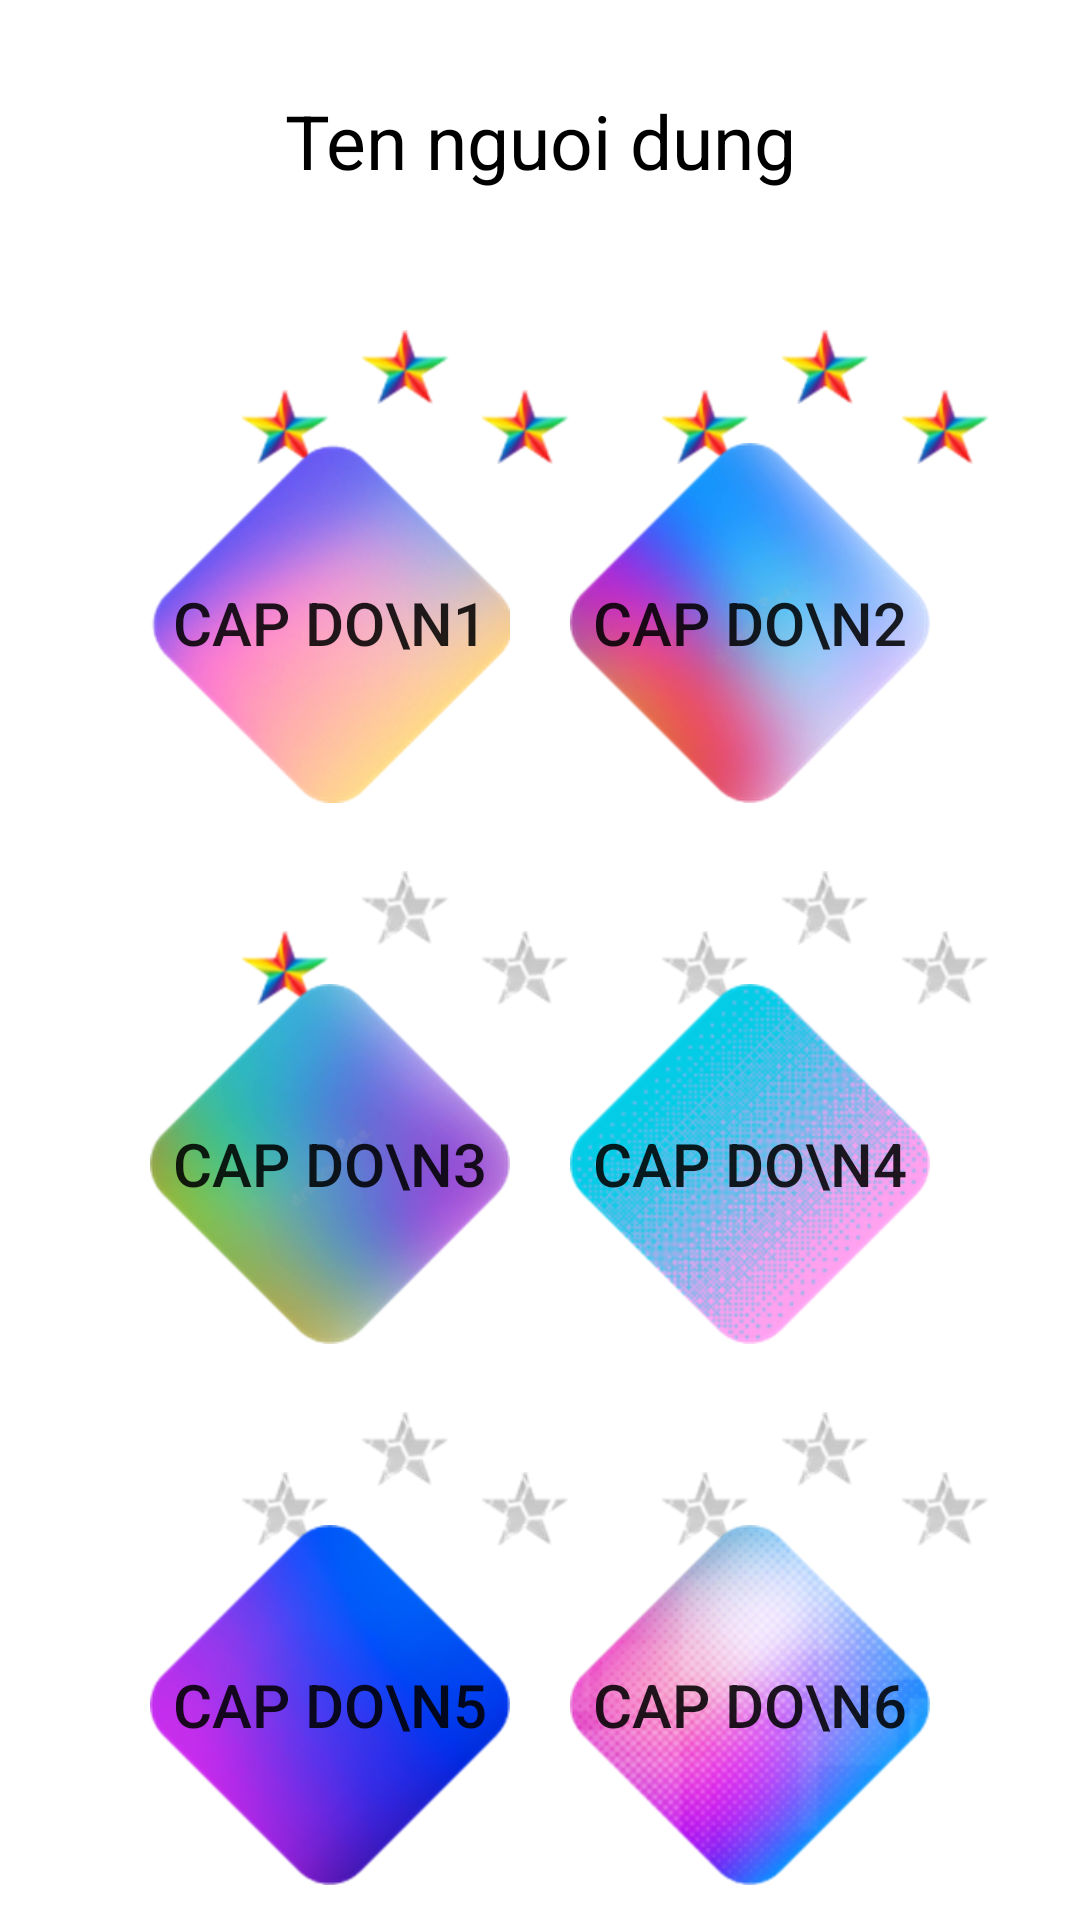

Icon bounding boxes for this 1080px×1920px phone screenshot, format box=[x1, y1, x2, y2]:
star: box=[362, 330, 448, 404], box=[782, 330, 868, 404], box=[242, 390, 330, 472], box=[482, 390, 568, 464], box=[662, 390, 750, 472], box=[902, 390, 988, 464], box=[242, 931, 330, 1013]
